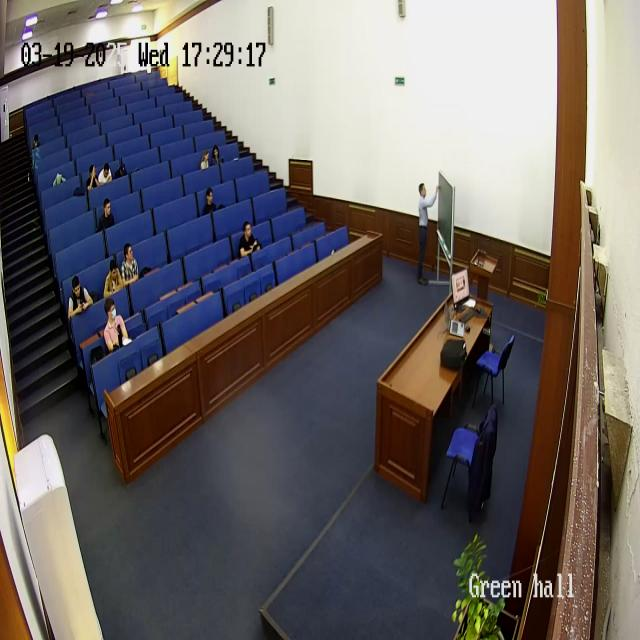person: (416, 180, 439, 284), (102, 296, 130, 352), (68, 275, 94, 321), (238, 220, 260, 260), (103, 258, 124, 298), (121, 243, 139, 284), (98, 197, 115, 232), (202, 187, 218, 216), (86, 165, 100, 191), (98, 162, 112, 186), (211, 145, 222, 166), (200, 149, 210, 171), (30, 133, 40, 146)
